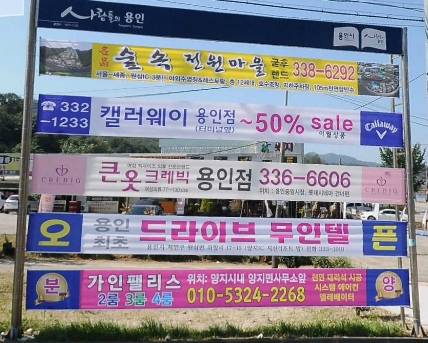banner: (29, 34, 404, 103), (12, 144, 410, 209), (8, 206, 423, 264), (12, 265, 425, 322), (21, 91, 402, 148)
